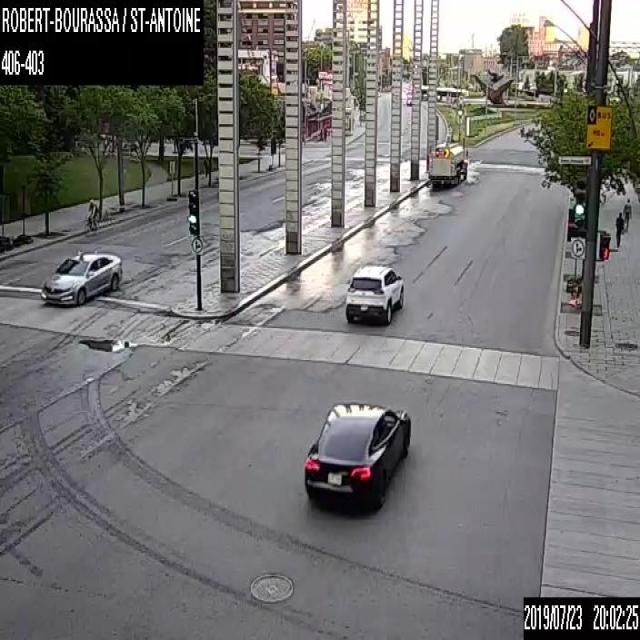bus: (421, 84, 460, 101)
cyclist: (86, 196, 98, 232)
pedestrian: (614, 210, 624, 247), (622, 197, 631, 231)
vehicle: (303, 397, 411, 519), (39, 250, 122, 306), (344, 263, 404, 325), (428, 139, 468, 188), (406, 93, 411, 104)
